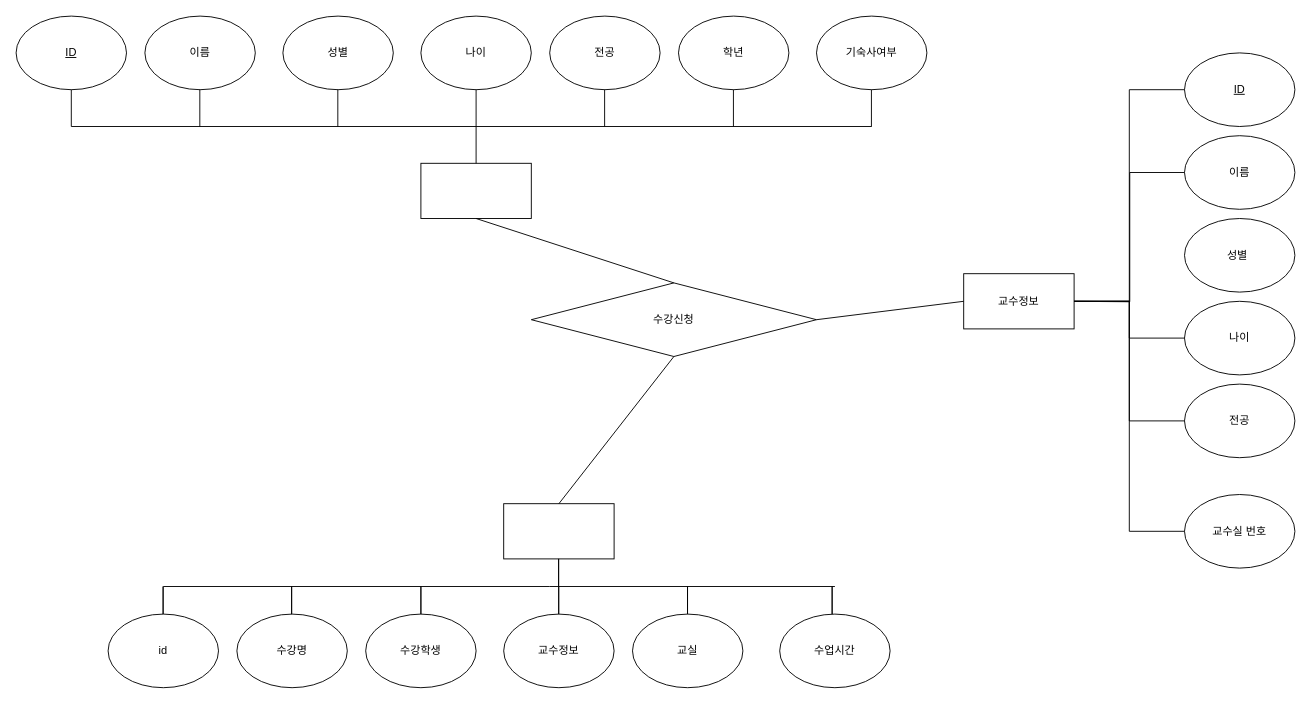
Image size: 1311x704. Some labels were removed from this diagram. The shapes that lost their labels are listed below. From the top down, each one's centre as x and y in pixels, then its label:
point 475,190: 학생정보
point 558,531: 수강정보
